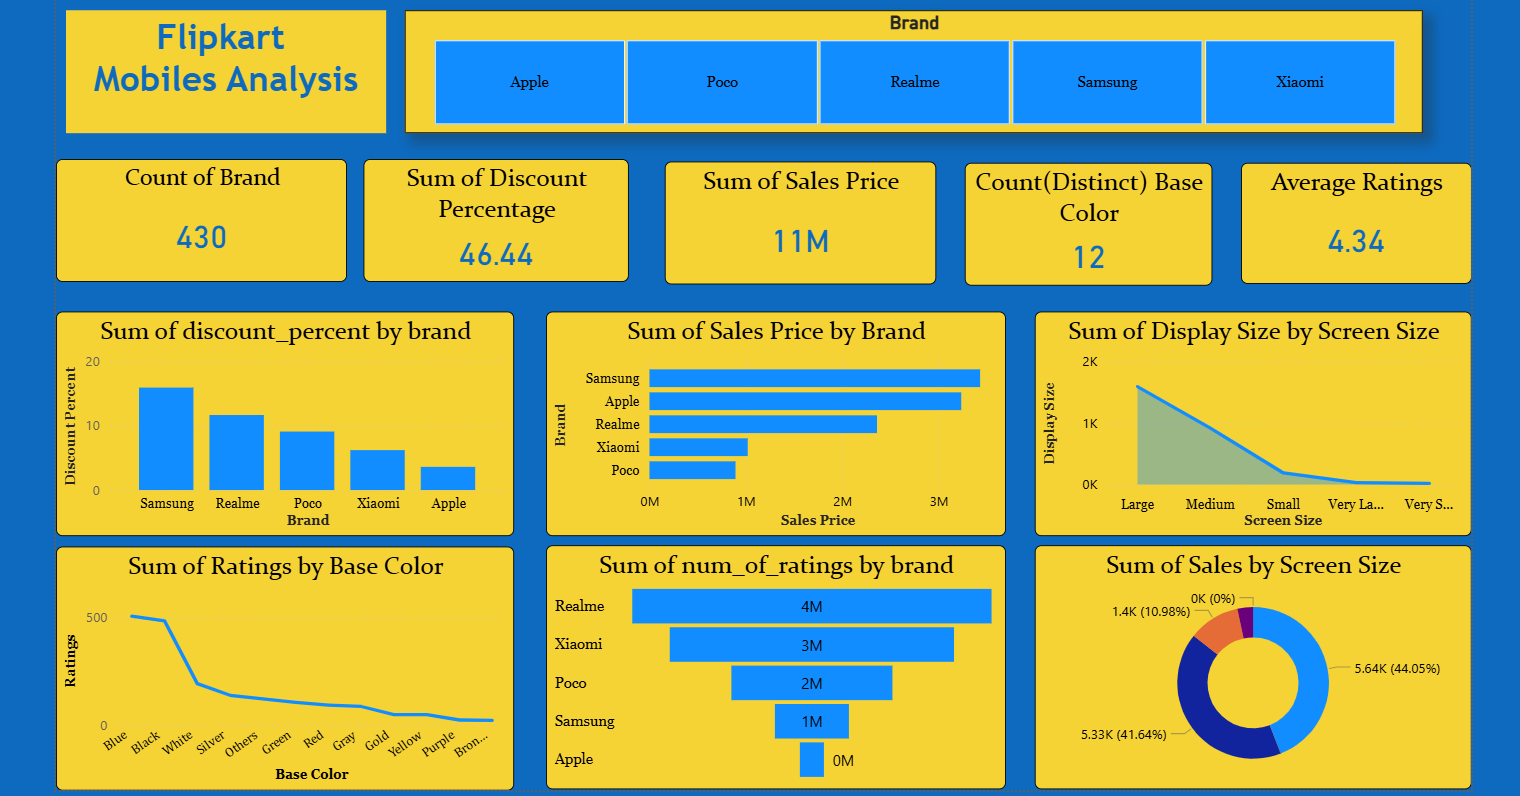

This screenshot's page, from the dashboard's own definition file:
{"tool":"powerbi","page":{"name":"Page 1","canvas":[1280,720],"ordinal":0},"visuals":[{"type":"textbox","box":[9.6,15.1,289.5,111.1],"z":0},{"type":"card","title":"Count of Brand","fields":{"Values":["CountNonNull(Flipkart Mobile - 2.model)"]},"box":[0,149.6,263.5,111.1],"z":1000},{"type":"card","title":"Sum of Discount Percentage","fields":{"Values":["Sum(Flipkart Mobile - 2.discount_percent)"]},"box":[278.6,149.6,240.1,111.1],"z":2000},{"type":"card","title":"Sum of Sales Price","fields":{"Values":["Sum(Flipkart Mobile - 2.sales_price)"]},"box":[550.3,150.9,245.6,111.1],"z":3000},{"type":"card","title":"Count(Distinct) Base Color","fields":{"Values":["Count(Flipkart Mobile - 2.base_color)"]},"box":[822,152.3,223.7,111.1],"z":4000},{"type":"card","title":"Average Ratings","fields":{"Values":["Avg(Flipkart Mobile - 2.ratings)"]},"box":[1071.7,152.3,208.6,109.8],"z":5000},{"type":"slicer","title":"Brand","fields":{"Values":["Flipkart Mobile - 2.brand"]},"box":[315.6,15.1,920.8,111.1],"z":6000},{"type":"clusteredColumnChart","fields":{"Category":["Flipkart Mobile - 2.brand"],"Y":["Sum(Flipkart Mobile - 2.discount_percent)"]},"box":[0,286.8,414.4,203.1],"z":7000},{"type":"lineChart","title":"Sum of Ratings by Base Color","fields":{"Category":["Flipkart Mobile - 2.base_color"],"Y":["Sum(Flipkart Mobile - 2.ratings)"]},"box":[0,499.5,414.4,220.9],"z":8000},{"type":"barChart","title":"Sum of Sales Price by Brand","fields":{"Category":["Flipkart Mobile - 2.brand"],"Y":["Sum(Flipkart Mobile - 2.sales_price)"]},"box":[443.2,286.8,415.8,203.1],"z":9000},{"type":"funnel","fields":{"Category":["Flipkart Mobile - 2.brand"],"Y":["Sum(Flipkart Mobile - 2.num_of_ratings)"]},"box":[443,499,416,221],"z":10000},{"type":"stackedAreaChart","title":"Sum of Display Size by Screen Size","fields":{"Category":["Flipkart Mobile - 2.screen_size"],"Y":["Sum(Flipkart Mobile - 2.display_size)"]},"box":[885.1,286.8,395.2,203.1],"z":11000},{"type":"donutChart","title":"Sum of Sales by Screen Size","fields":{"Category":["Flipkart Mobile - 2.screen_size"],"Y":["Sum(Flipkart Mobile - 2.sales)"]},"box":[885,499,395,221],"z":12000}]}

Visuals, with their boxes in screenshot pixels (x1, y1, x2, y2):
textbox: [74,12,389,134]
"Count of Brand" card: [63,159,350,280]
"Sum of Discount Percentage" card: [367,159,629,280]
"Sum of Sales Price" card: [663,160,931,282]
"Count(Distinct) Base Color" card: [959,162,1203,283]
"Average Ratings" card: [1231,162,1459,282]
"Brand" slicer: [407,12,1411,134]
clusteredColumnChart - Flipkart Mobile - 2.brand x Sum(Flipkart Mobile - 2.discount_percent): [63,309,515,530]
"Sum of Ratings by Base Color" lineChart: [63,540,515,781]
"Sum of Sales Price by Brand" barChart: [546,309,999,530]
funnel - Flipkart Mobile - 2.brand x Sum(Flipkart Mobile - 2.num_of_ratings): [546,540,999,781]
"Sum of Display Size by Screen Size" stackedAreaChart: [1028,309,1459,530]
"Sum of Sales by Screen Size" donutChart: [1028,540,1458,781]
